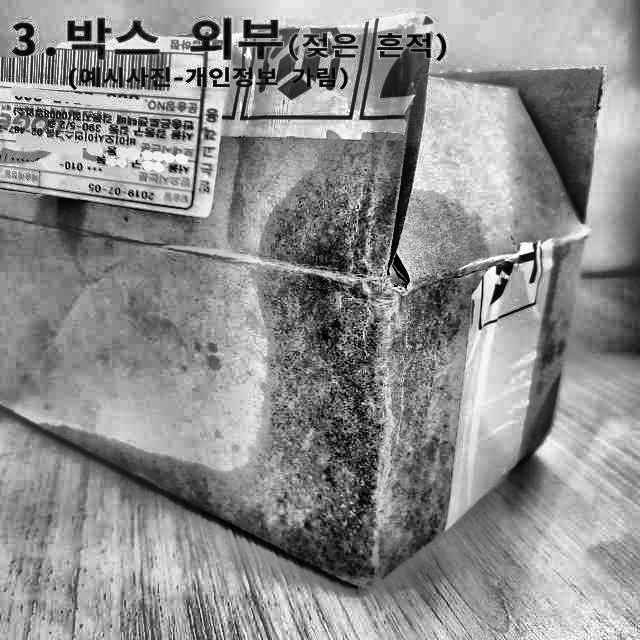box: (0, 31, 607, 584)
wet: (232, 169, 470, 573)
